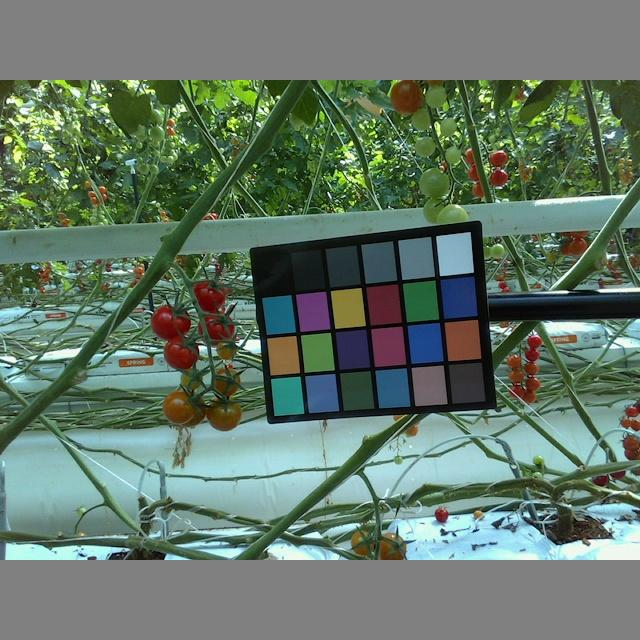green: (419, 168, 451, 196), (435, 206, 471, 230), (421, 197, 447, 222), (413, 135, 435, 158), (413, 109, 432, 135), (426, 85, 446, 109), (179, 371, 203, 389), (440, 117, 458, 137), (446, 144, 463, 165)
pink: (204, 393, 244, 433), (388, 81, 427, 116), (163, 391, 200, 425), (211, 368, 243, 396), (215, 338, 235, 360)
red: (196, 312, 235, 347), (151, 305, 190, 339), (163, 337, 199, 371), (190, 281, 225, 311)
